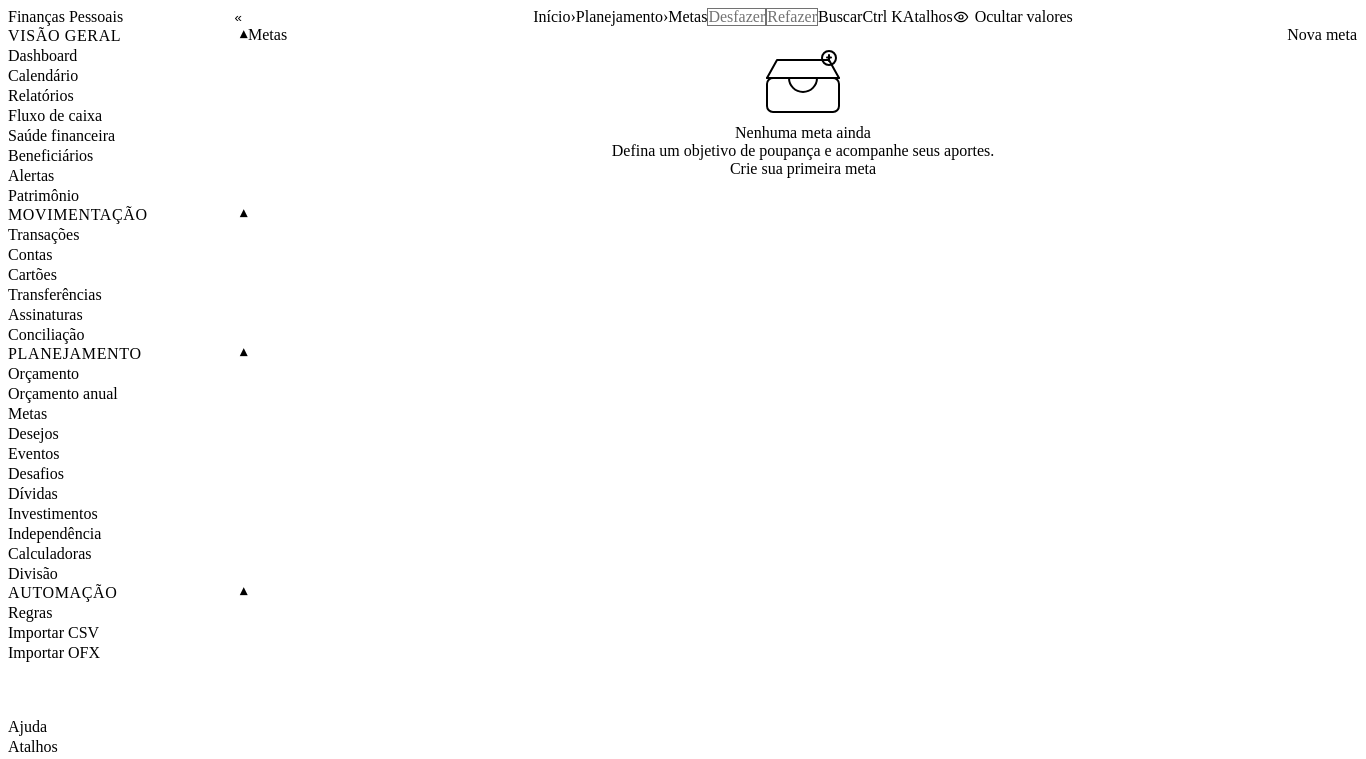
metas: tela › critério 1: cria meta pela tela e persiste
Click the button "Nova meta".
click(1322, 35)  # box [1286,26,1358,44]
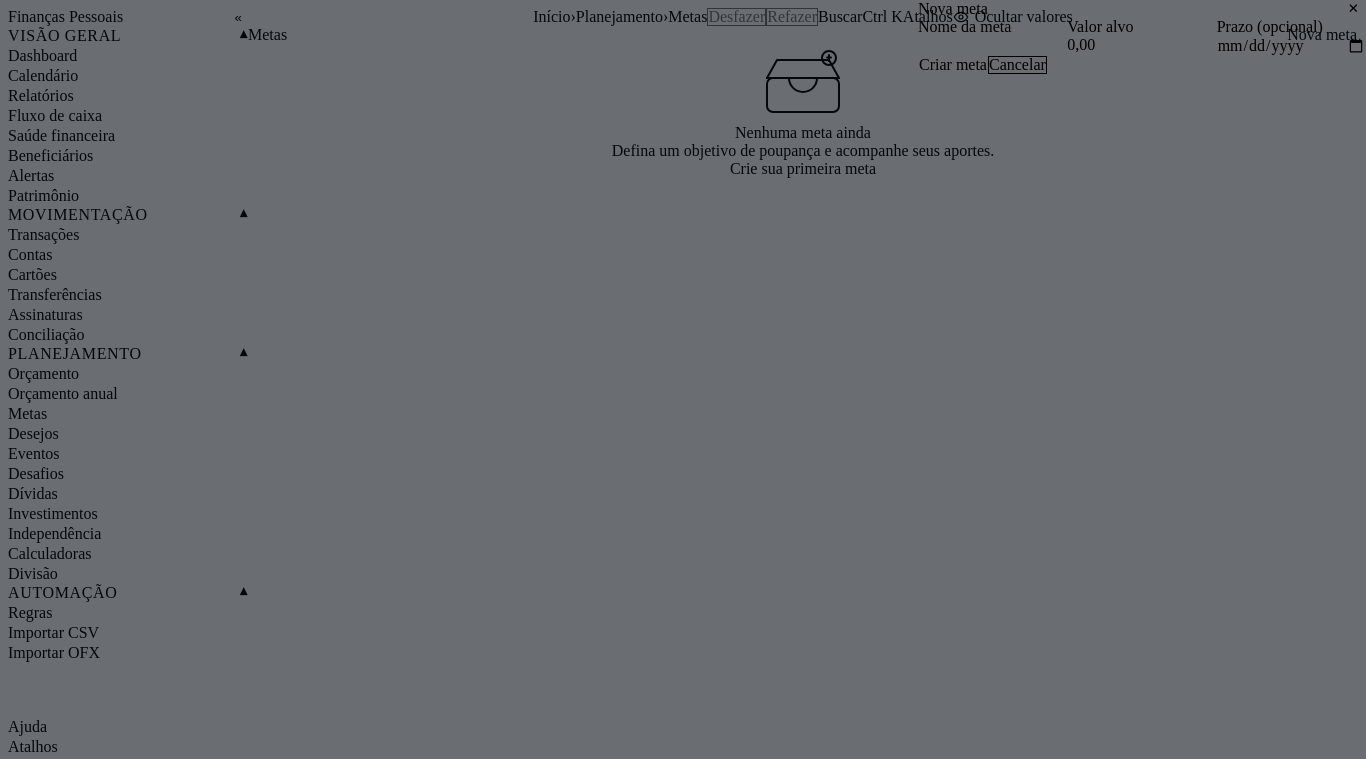
Type "Reserva" into the field labelled "Nome da meta".
click(993, 45); type("Reserva")  # box [918,36,1067,54]
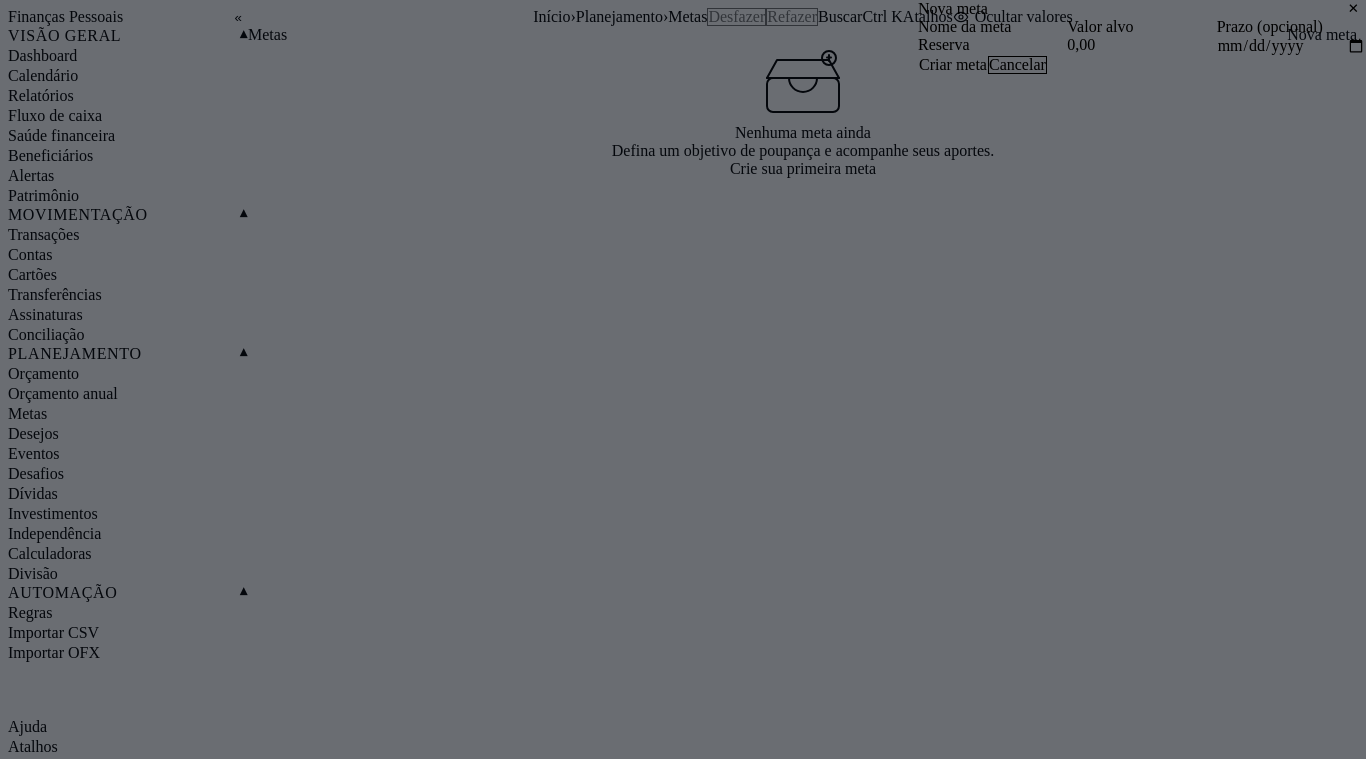
Type "5.000,00" into the field labelled "Valor alvo".
click(1142, 45); type("5.000,00")  # box [1067,36,1217,54]
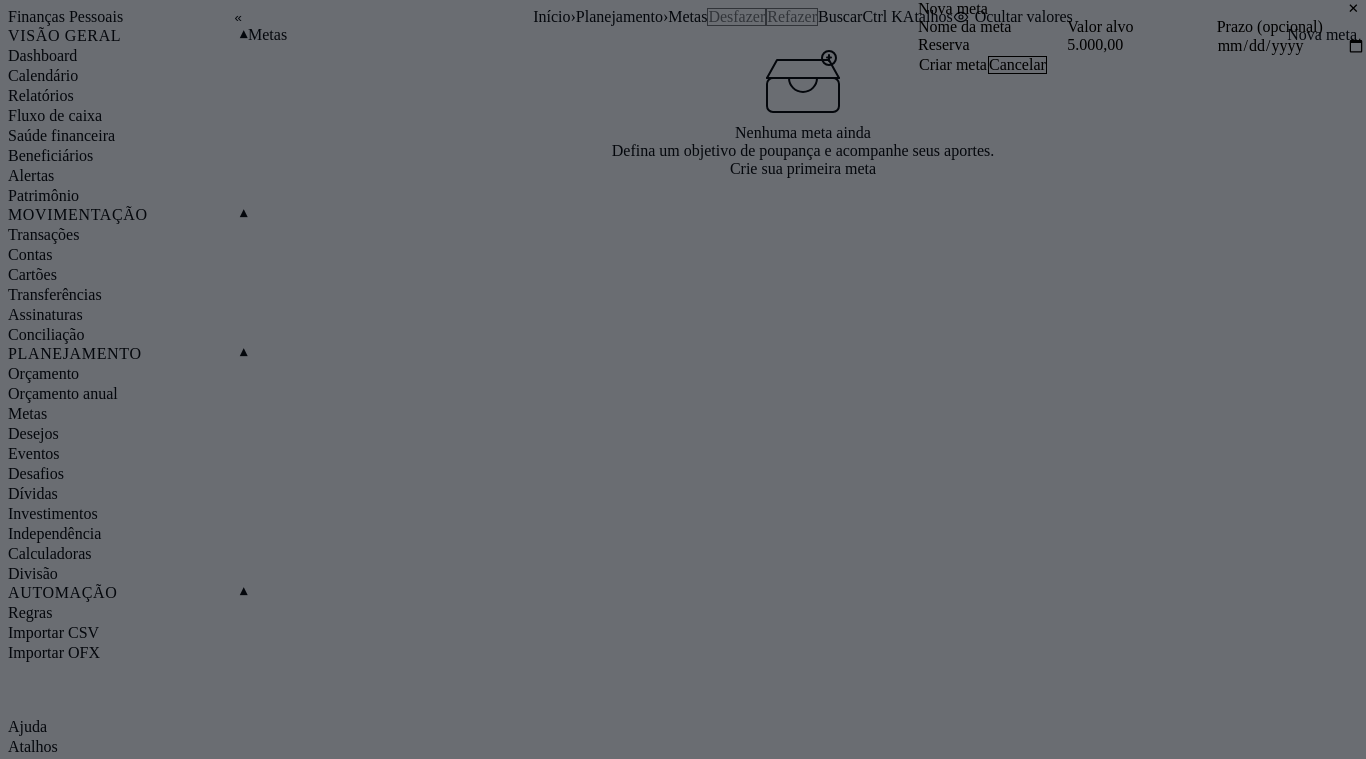
Click the button "Criar meta".
click(953, 65)  # box [918,56,988,74]
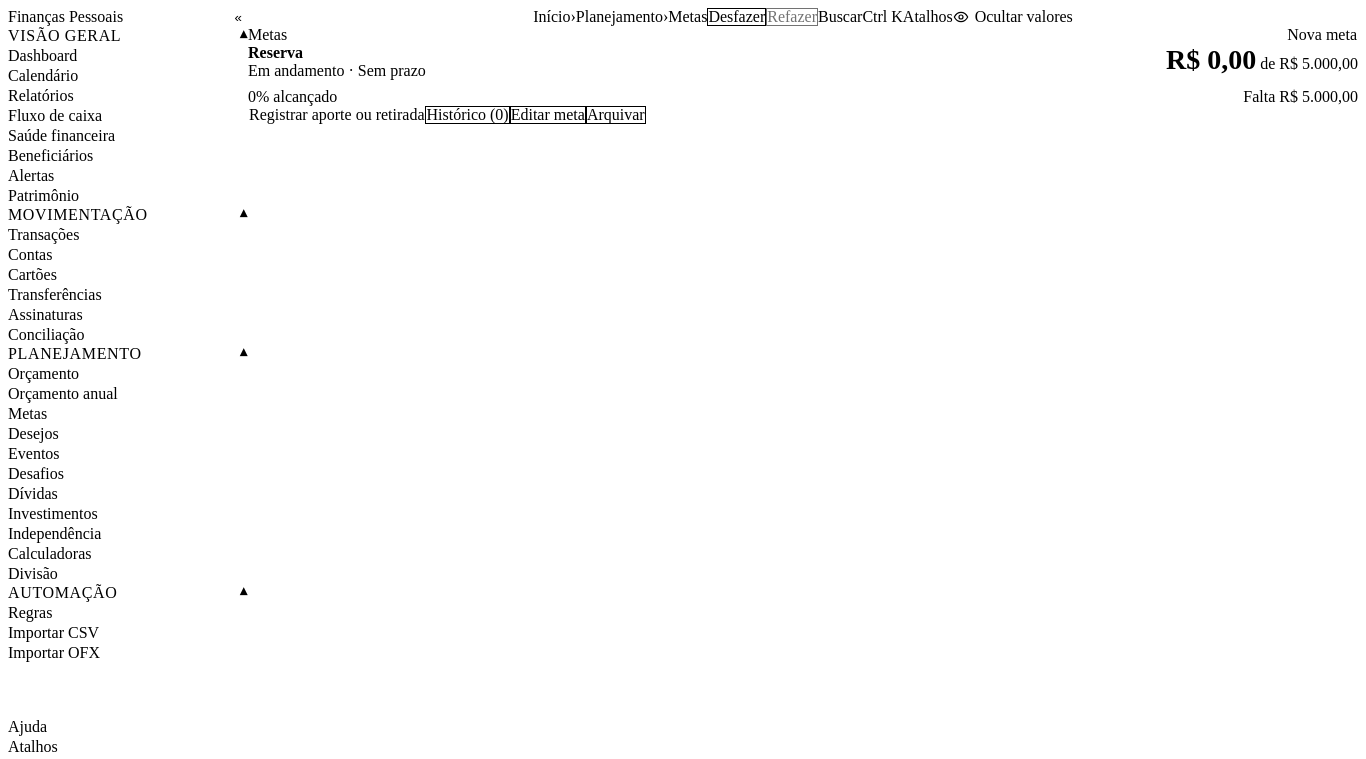
Now the element named "Meta Reserva" is shown, box [248,44,1358,124]
